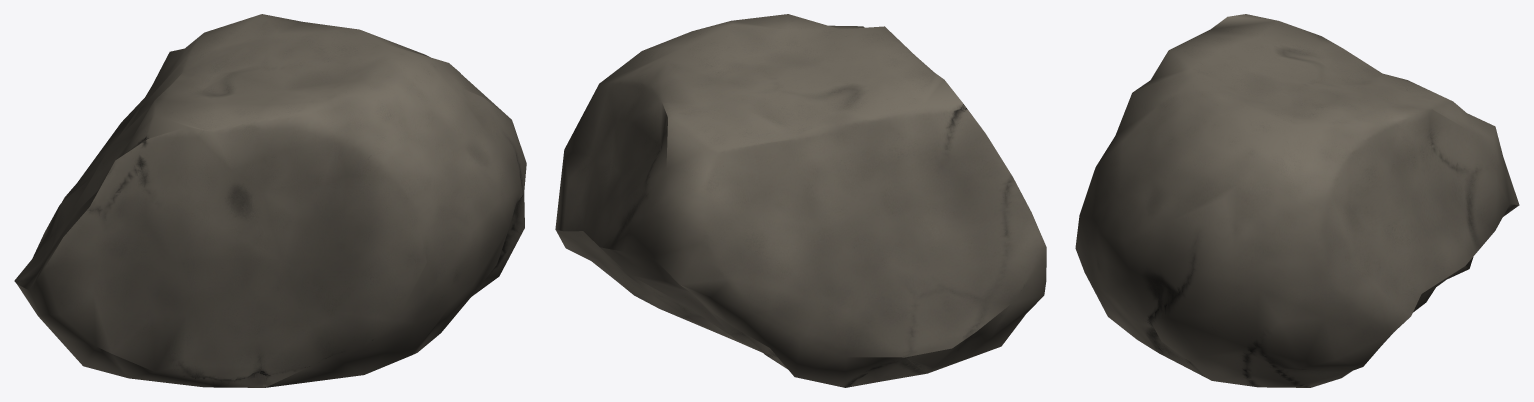
The model's file is Roca_Canto.fbx.
The picture shows the model from 3 angles, left to right: view 1: azimuth 30°, elevation 25°; view 2: azimuth 150°, elevation 25°; view 3: azimuth 270°, elevation 25°; orthographic projection. The views are drawn at different scales.
Parts seen in each view (by area): view 1: Roca_Canto; view 2: Roca_Canto; view 3: Roca_Canto.
Boxes of the visible parts, x1,y1,x2,y2 form: Roca_Canto: [14, 14, 526, 387]; Roca_Canto: [555, 14, 1046, 387]; Roca_Canto: [1075, 14, 1519, 387].
Bounding box in the file's own units: 1.69 × 0.8501 × 1.39.
Materials: 1 (1 with a texture image).
